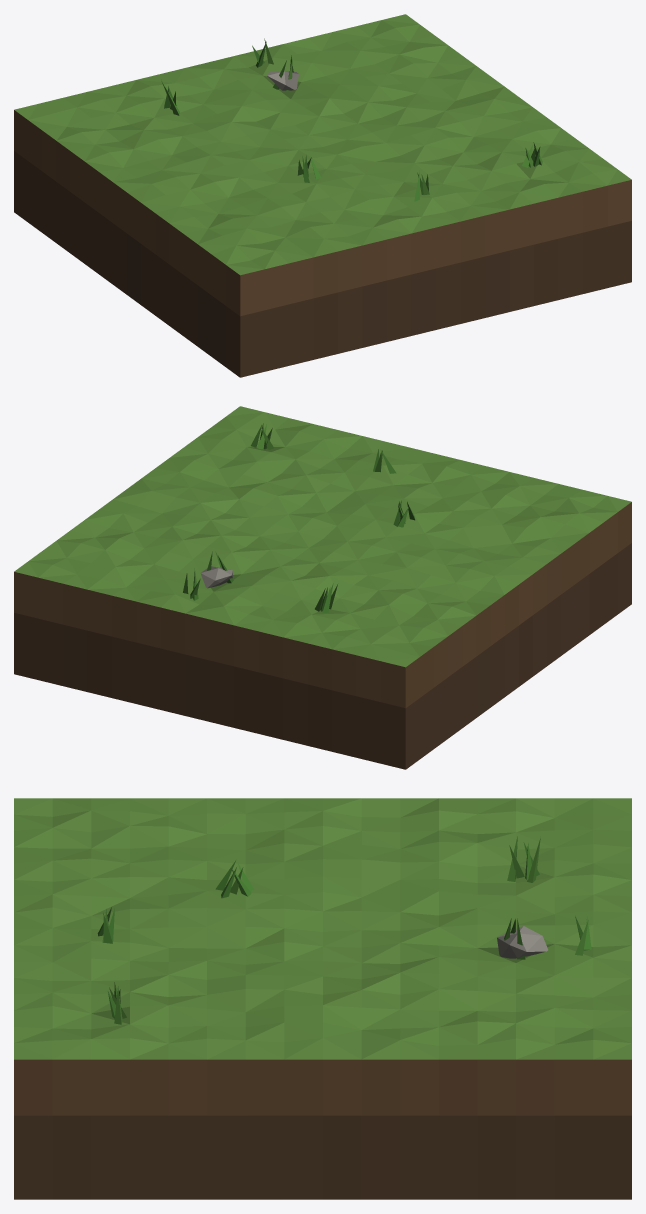
File: grass_1.glb
3 renders of one model, top to bottom at view 1: azimuth 30°, elevation 25°; view 2: azimuth 150°, elevation 25°; view 3: azimuth 270°, elevation 25°, orthographic. The views are drawn at different scales.
Parts seen in each view (by area): view 1: Grass1; view 2: Grass1; view 3: Grass1.
Boxes of the visible parts, bbox=[...] form: Grass1: bbox=[14, 14, 631, 377]; Grass1: bbox=[14, 406, 631, 769]; Grass1: bbox=[14, 798, 631, 1199].
Bounding box in the file's own units: 2 × 0.638 × 2.
